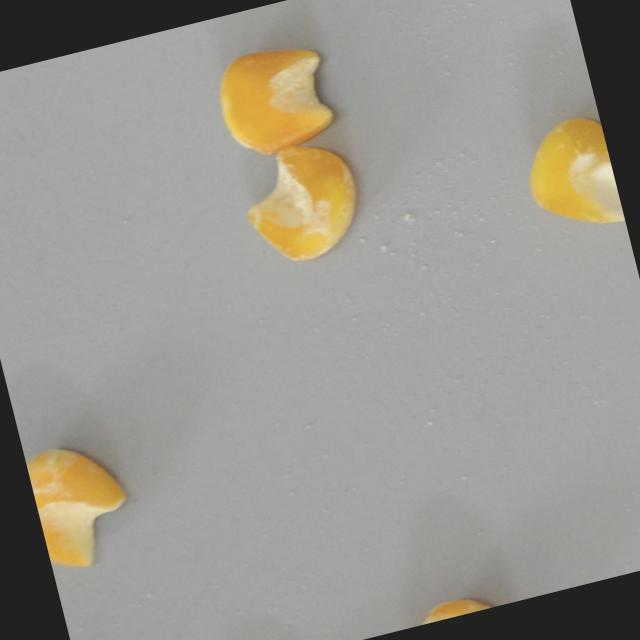no_canjicado: (207, 35, 340, 161), (514, 108, 625, 239)
pelicula: (232, 131, 368, 269), (23, 428, 139, 571), (393, 581, 513, 630)
